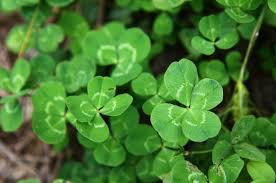4-clover: (151, 58, 224, 142), (66, 75, 132, 143)
